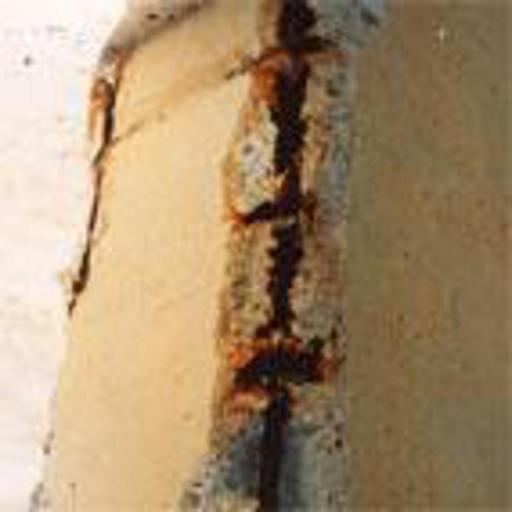spalling: (218, 0, 346, 507)
